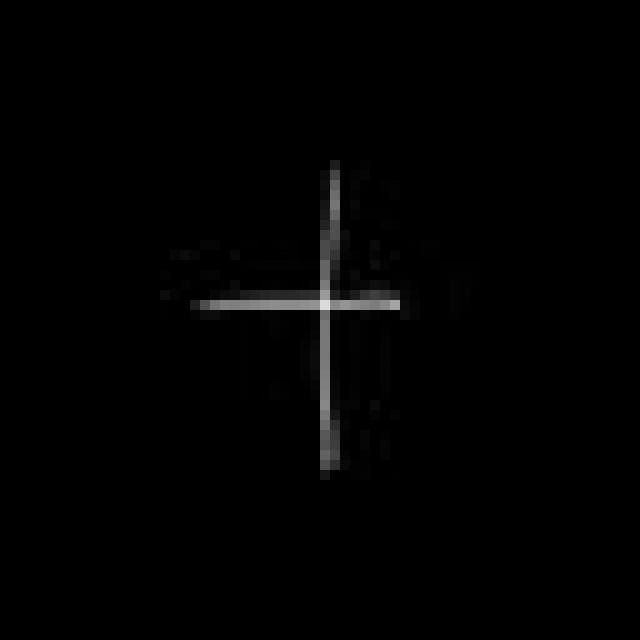10 -ten-: (178, 165, 410, 483)
